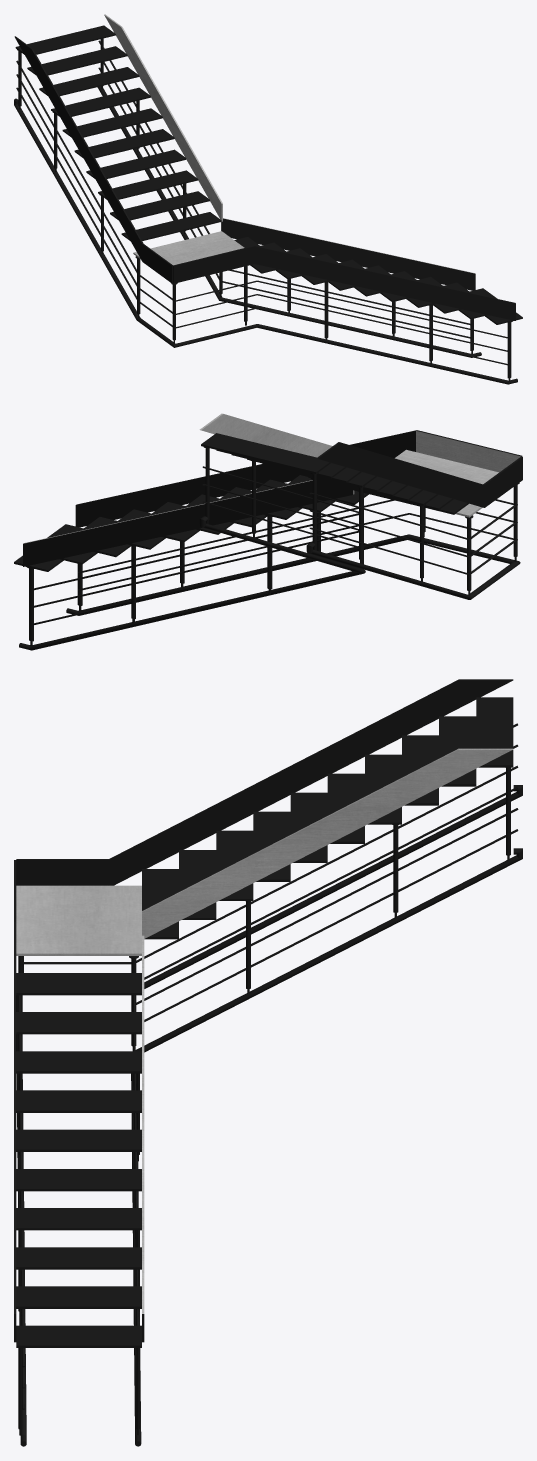
Rendered from Escada.fbx.
The picture shows the model from 3 angles, top to bottom: view 1: azimuth 30°, elevation 25°; view 2: azimuth 150°, elevation 25°; view 3: azimuth 270°, elevation 25°; orthographic projection. The views are drawn at different scales.
Visible parts, largest first — view 1: group_ 10.006, group_.144, group_ 14.003, group_ 2.076, group_ 12.004, group_ 17.003, group_ 18.003, group_ 21.003, group_ 2.078, group_ 7.010, group_ 13.003, group_ 19.003 (+2 smaller); view 2: group_ 10.006, group_.144, group_ 2.076, group_ 12.004, group_ 14.003, group_ 15.003, group_ 3.045, group_ 6.013, group_.146, group_ 9.006, group_ 7.009, group_ 19.003 (+14 smaller); view 3: group_ 10.006, group_.144, group_ 14.003, group_ 3.045, group_ 4.026, group_ 5.025, group_ 6.013, group_ 8.009, group_ 9.006, group_ 11.005, group_ 15.003, group_ 16.003 (+12 smaller).
Part boxes in pixels (x1,y1,x2,y2): group_ 10.006: (14, 14, 515, 320); group_.144: (14, 40, 517, 384); group_ 14.003: (133, 231, 244, 265); group_ 2.076: (17, 38, 434, 317); group_ 12.004: (15, 25, 115, 54); group_ 17.003: (62, 108, 162, 137); group_ 18.003: (74, 129, 174, 158); group_ 21.003: (98, 170, 198, 199); group_ 2.078: (51, 87, 150, 116); group_ 7.010: (121, 212, 221, 240); group_ 13.003: (27, 46, 127, 75); group_ 19.003: (39, 67, 139, 95); group_ 10.006: (23, 413, 522, 566); group_.144: (19, 466, 520, 650); group_ 2.076: (204, 447, 473, 595); group_ 12.004: (201, 433, 330, 473); group_ 14.003: (395, 449, 498, 517); group_ 15.003: (14, 524, 83, 571); group_ 3.045: (59, 517, 117, 564); group_ 6.013: (94, 509, 151, 557); group_.146: (128, 502, 185, 549); group_ 9.006: (161, 494, 219, 542); group_ 7.009: (265, 515, 272, 594); group_ 19.003: (231, 454, 361, 482); group_ 10.006: (14, 679, 513, 1342); group_.144: (16, 723, 522, 1446); group_ 14.003: (16, 885, 141, 955); group_ 3.045: (16, 1286, 141, 1308); group_ 4.026: (16, 1090, 141, 1112); group_ 5.025: (16, 1051, 141, 1073); group_ 6.013: (16, 1247, 141, 1269); group_ 8.009: (16, 1012, 141, 1034); group_ 9.006: (16, 1169, 141, 1191); group_ 11.005: (16, 973, 141, 995); group_ 15.003: (16, 1325, 141, 1347); group_ 16.003: (16, 1129, 141, 1151).
Size of the model in its own units: 5.17 by 4.45 by 4.11.
Materials: 2 (1 with a texture image).
